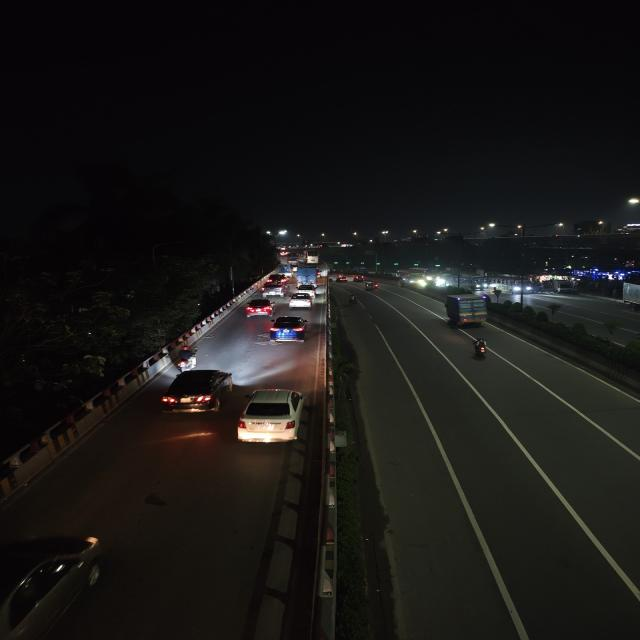bus: (499, 278, 534, 294), (460, 275, 490, 292), (399, 269, 426, 287), (296, 266, 320, 286)
car: (0, 530, 113, 640), (234, 386, 308, 448), (160, 368, 237, 416), (264, 316, 311, 346), (244, 297, 276, 317), (287, 293, 314, 310), (259, 283, 286, 297), (294, 285, 318, 297), (272, 273, 290, 285), (351, 274, 364, 282), (337, 275, 349, 283)
cng: (364, 282, 372, 292)
motorcycle: (171, 346, 203, 372), (469, 337, 494, 363)
rickshaw: (344, 296, 360, 308)
truck: (442, 293, 490, 327), (617, 280, 640, 316), (295, 266, 319, 286), (553, 279, 576, 291)
